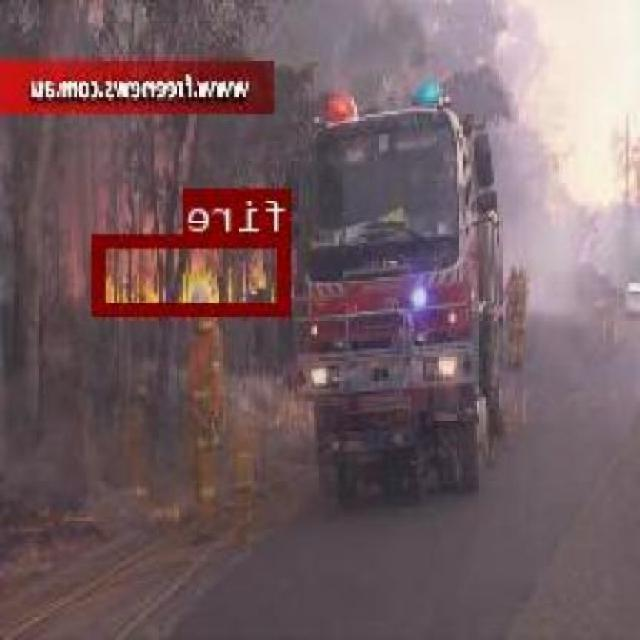Fire: (94, 232, 294, 312)
